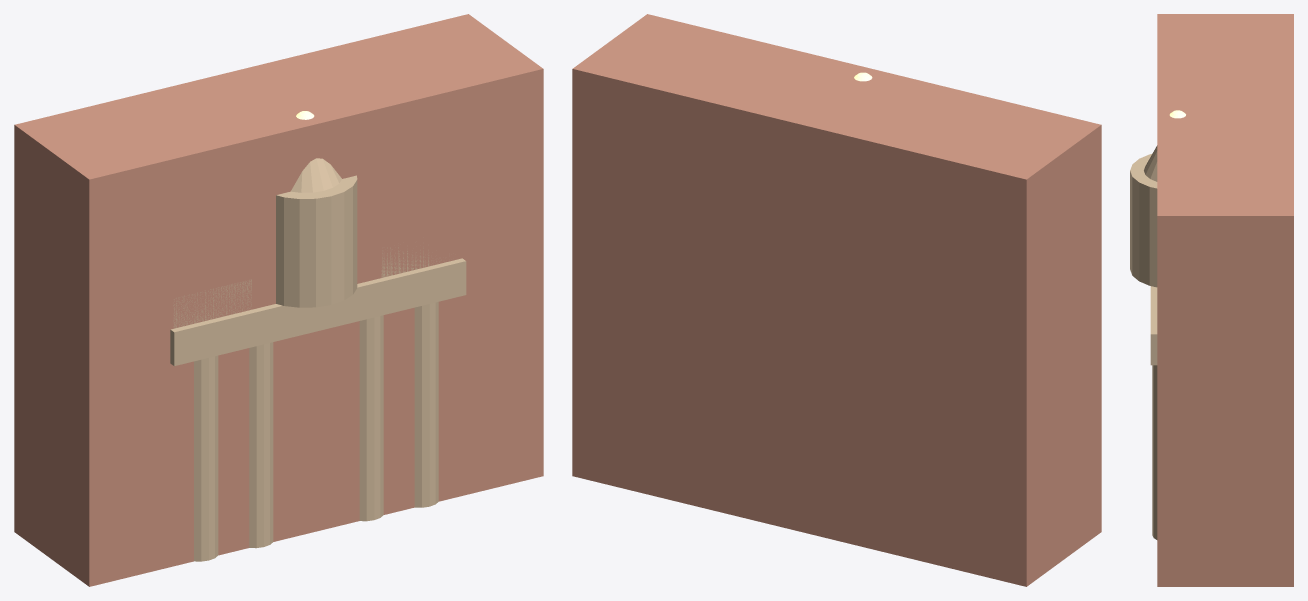
File: petra.glb
3 renders of one model, left to right at view 1: azimuth 30°, elevation 25°; view 2: azimuth 150°, elevation 25°; view 3: azimuth 270°, elevation 25°, orthographic. The views are drawn at different scales.
Visible parts, largest first — view 1: petra; view 2: petra; view 3: petra.
Boxes of the visible parts, x1,y1,x2,y2 form: petra: (14, 14, 543, 586); petra: (572, 14, 1101, 586); petra: (1130, 14, 1293, 586).
Bounding box in the file's own units: 11.55 × 10 × 3.96.
